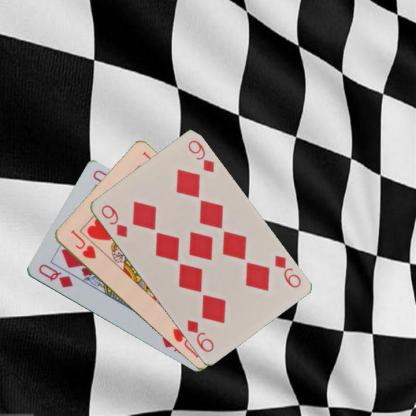9d: (97, 202, 128, 239), (272, 252, 302, 289)
Jh: (67, 227, 97, 260)
Qd: (35, 261, 74, 290)
